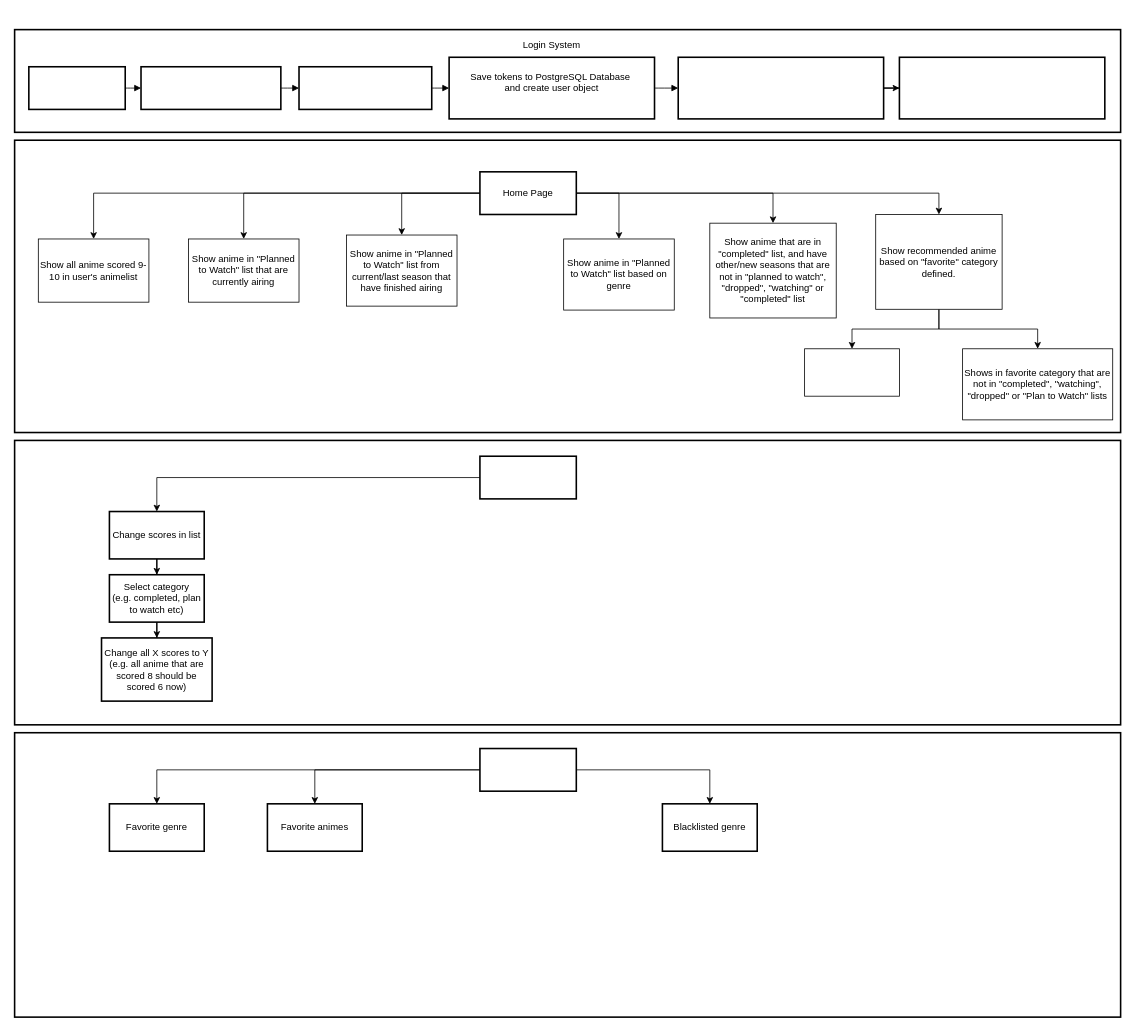
Some shapes in this 1134 by 1031 pixel diagram are drawn without their labels. The shapes that lost their labels are listed below. From the top down, each one's box as (x1, y1, x2, y2) in pixels, then its label:
(28, 66, 126, 110): Login
(140, 66, 281, 110): MyAnimeList API OAuth
(298, 66, 432, 110): Get access/refresh token
(677, 56, 884, 119): Generate JWT Access Token for user to access our system
(898, 56, 1105, 119): Save JWT tokens as cookies for persistence login
(804, 348, 899, 396): Shows that are airing in current season and not in "Planned to Watch" list
(479, 455, 577, 499): Tools
(479, 747, 577, 792): Settings
